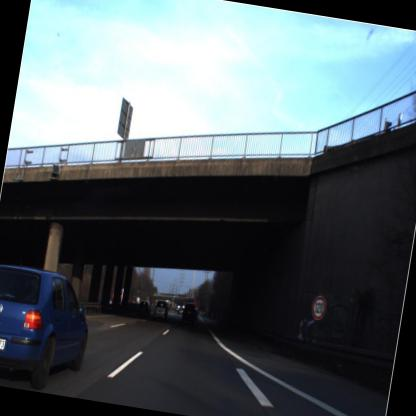prohibitory: (305, 292, 329, 326)
